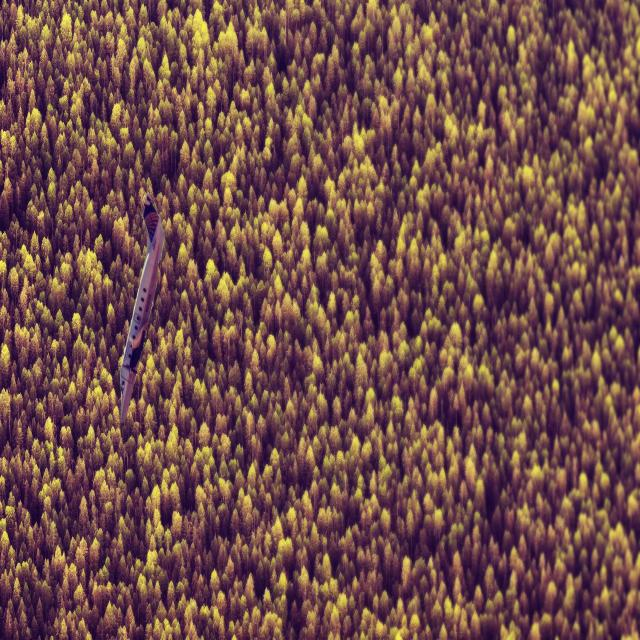airplane: (119, 193, 164, 425)
